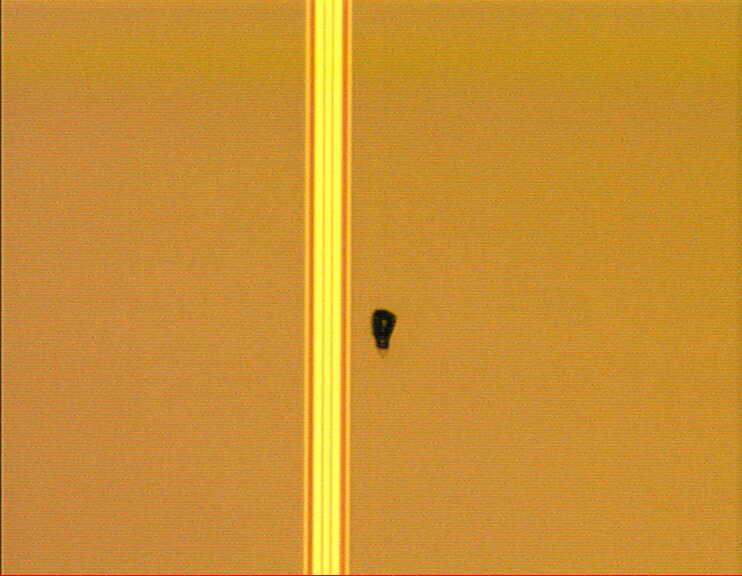PIQ PARTICLE: (367, 305, 400, 359)
